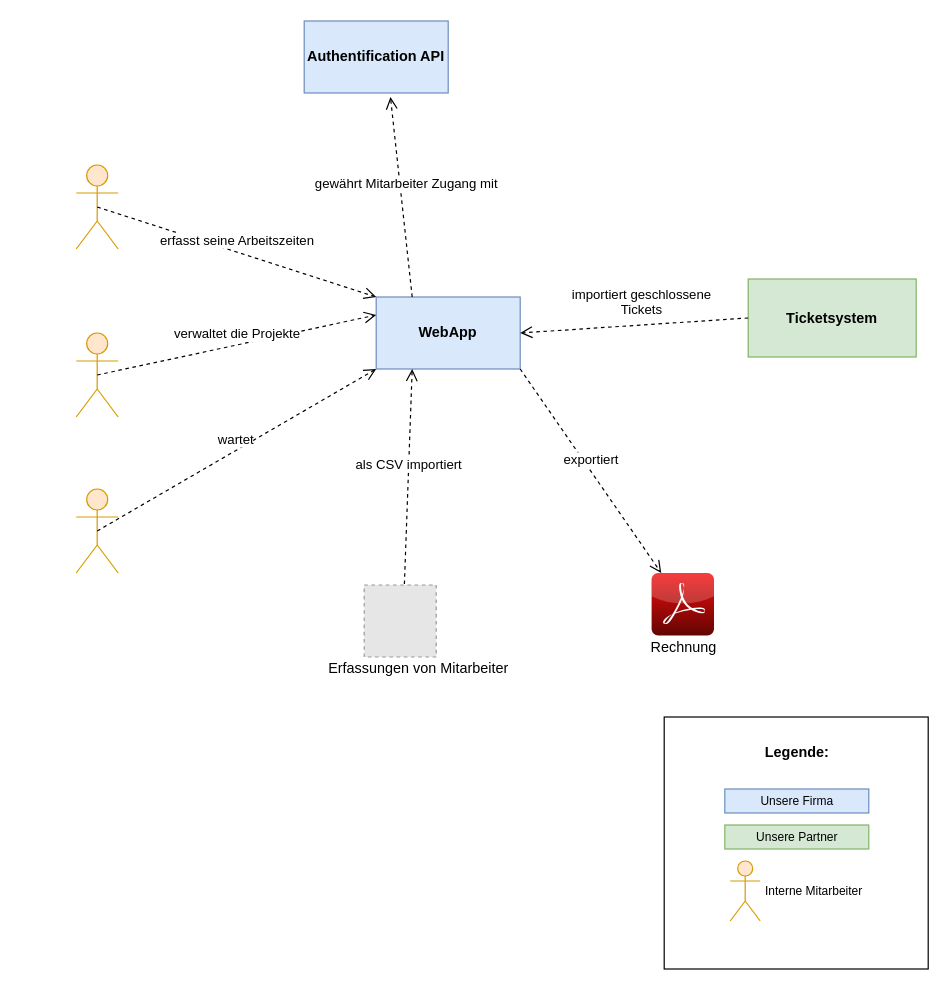
Image size: 949x990. Some labels were removed from this diagram. Grey dashed boxes stand in for pictures. The box of each missing label's shape, as (x1, y1, x2, y2) in pixels:
IT Admin: (75, 488, 118, 573)
Mitarbeiter: (75, 164, 118, 249)
Mitarbeiter(Projektleiter): (75, 332, 118, 417)
